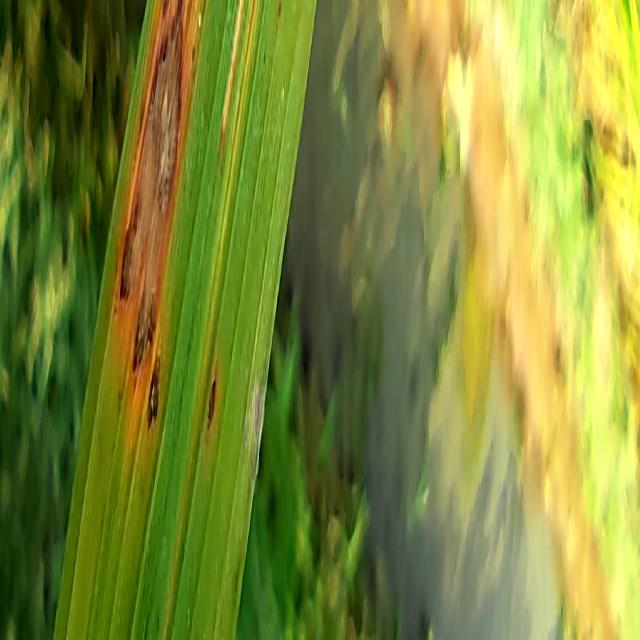LEAF BLAST: (120, 0, 183, 374), (147, 363, 159, 423)
